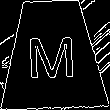M_N: (27, 29, 79, 80)
